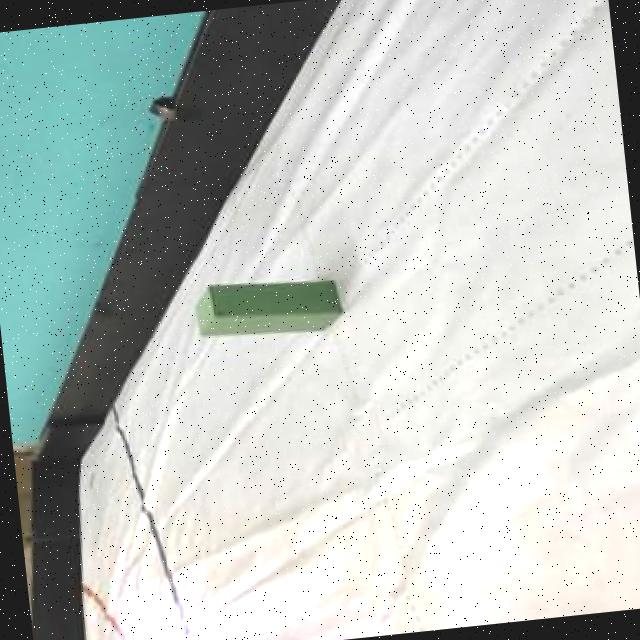greenbox: (189, 269, 346, 345)
